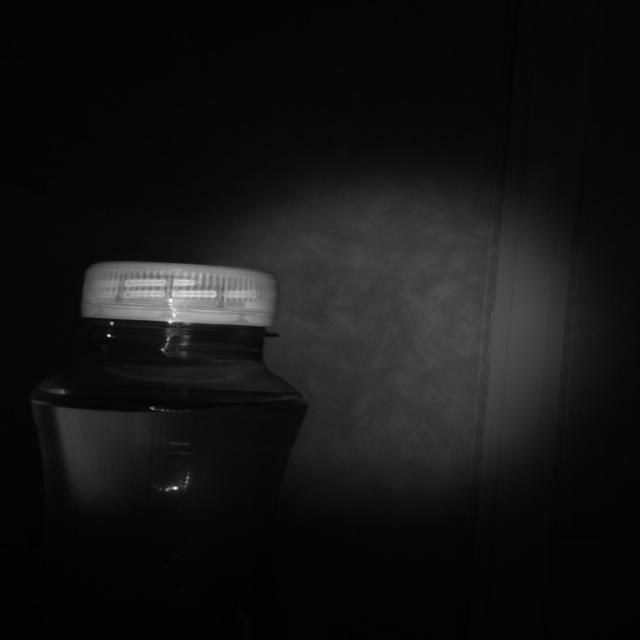Good: (81, 260, 278, 325)
